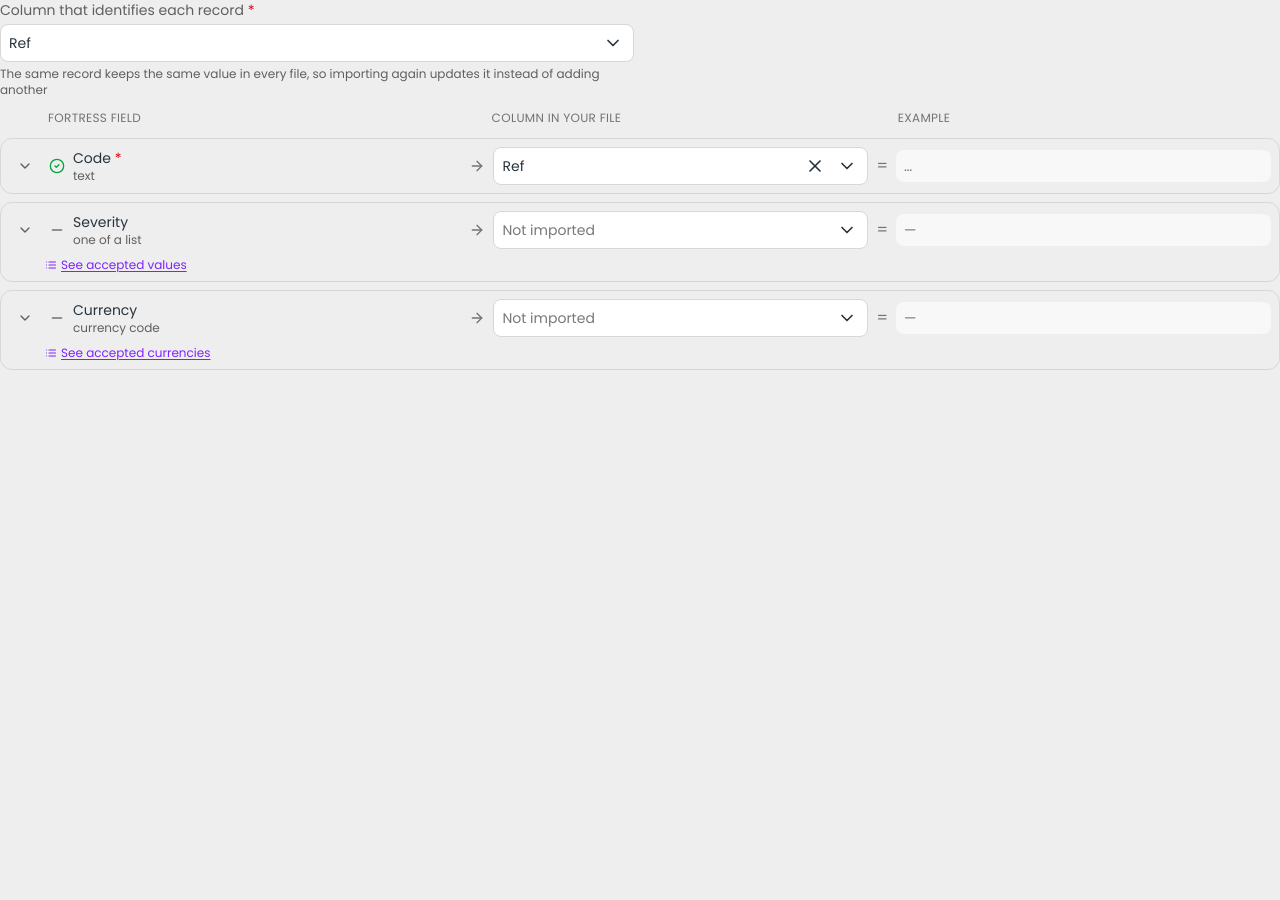
it: fields that take one of a list › offers the list before a column is chosen, for a fixed choice and a currency
The width and height of the screenshot is (1280, 900).
Expected: the button "See accepted currencies" is shown, [45,345,210,361]
Click the button "See accepted values". click: (116, 265)
box: [45,257,187,273]
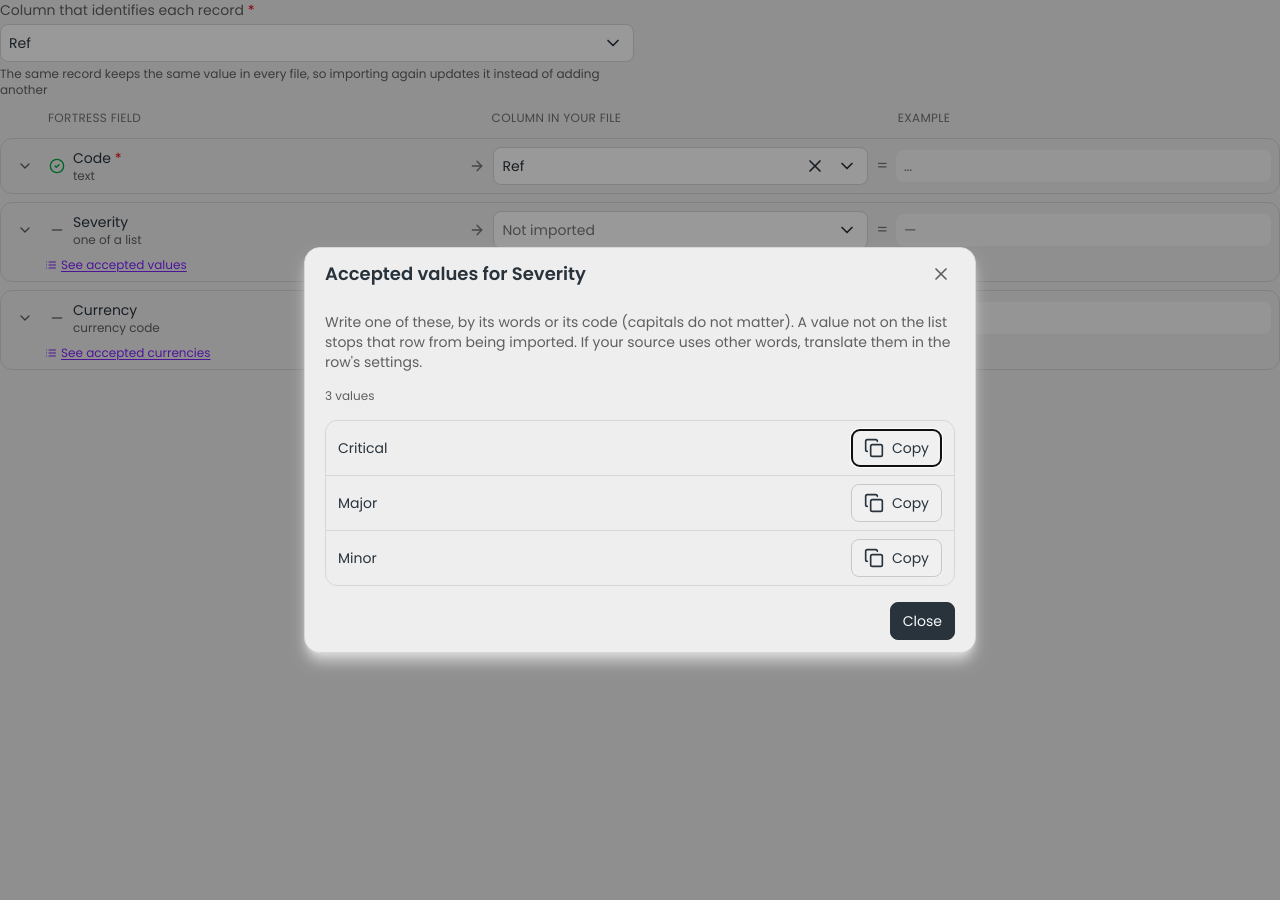
Expected: the text "Major" is shown, [338,493,377,513]
Expected: the button with aria-label "Copy Major" is shown, [851,484,942,522]
